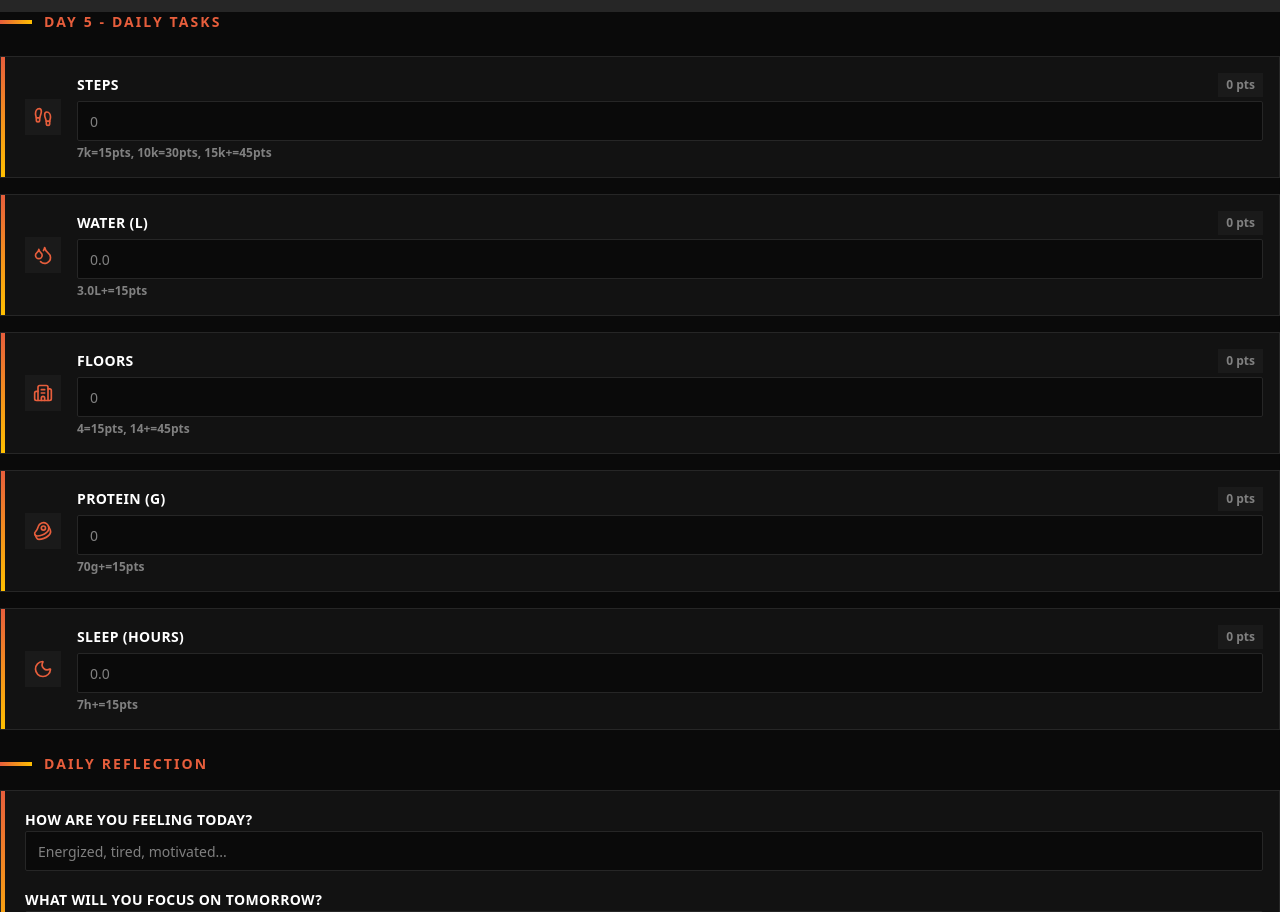
Test: TodaysTasks › handleInputChange › updates numeric metric value when input changes
Type "10000" into the number field labelled "Steps".
click(670, 121); type("10000")  # box [77,101,1263,141]
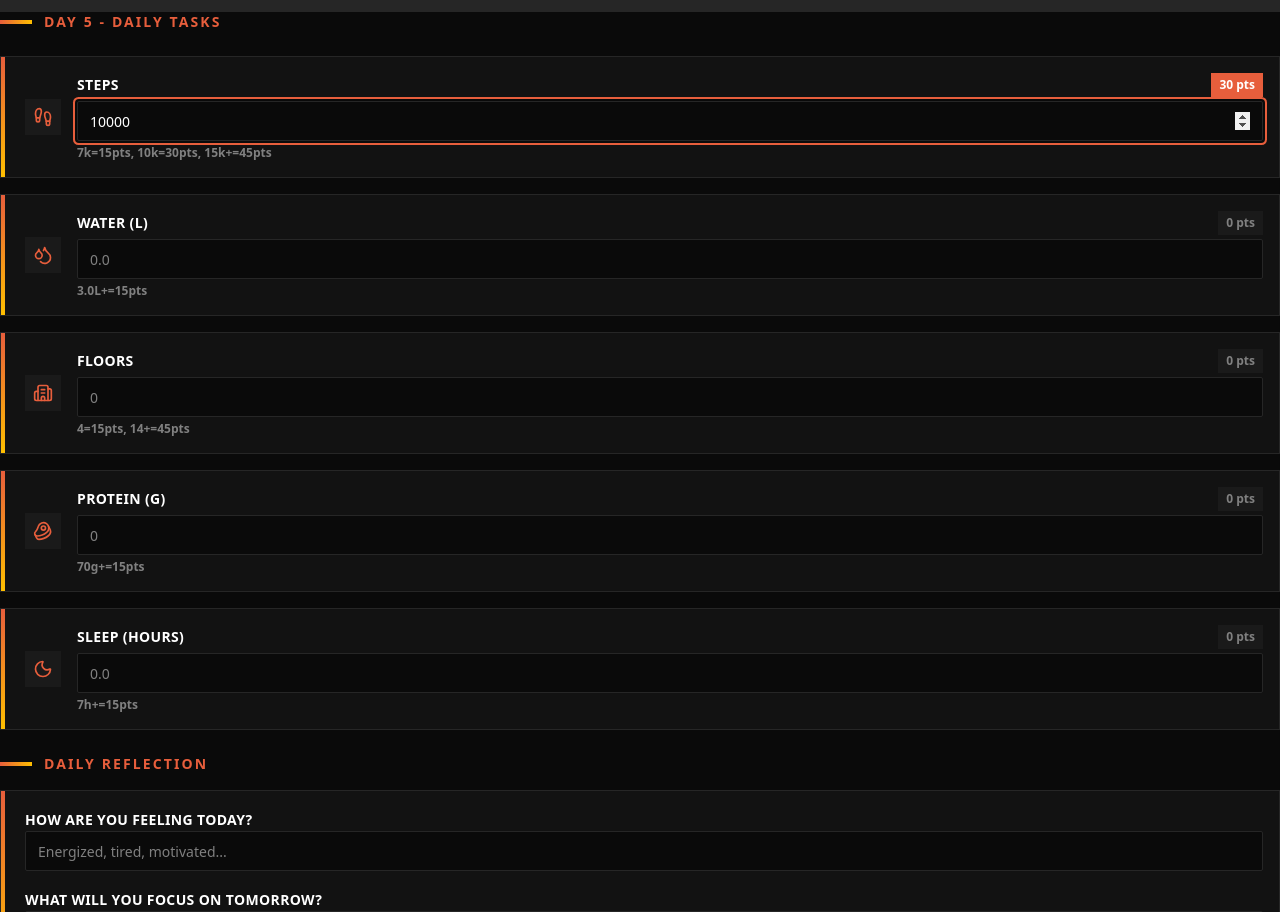
Expected: the text "30 pts" is shown, [1211,73,1263,97]
